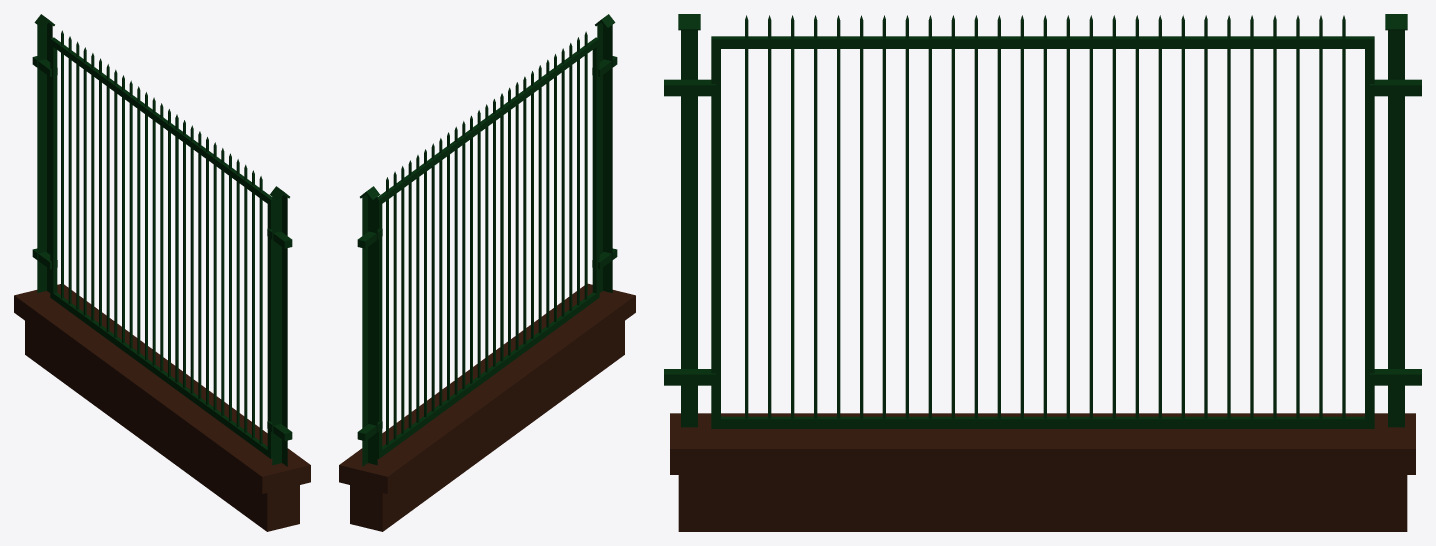
File: plot_z_murkiem_kolor.fbx
3 renders of one model, left to right at view 1: azimuth 30°, elevation 25°; view 2: azimuth 150°, elevation 25°; view 3: azimuth 270°, elevation 25°, orthographic. The views are drawn at different scales.
Visible parts, largest first — view 1: Cube.011; view 2: Cube.011; view 3: Cube.011.
Part boxes in pixels (x1,y1,x2,y2): Cube.011: [14, 14, 310, 531]; Cube.011: [339, 14, 635, 531]; Cube.011: [664, 14, 1421, 531].
Size of the model in its own units: 58.57 by 387 by 525.
